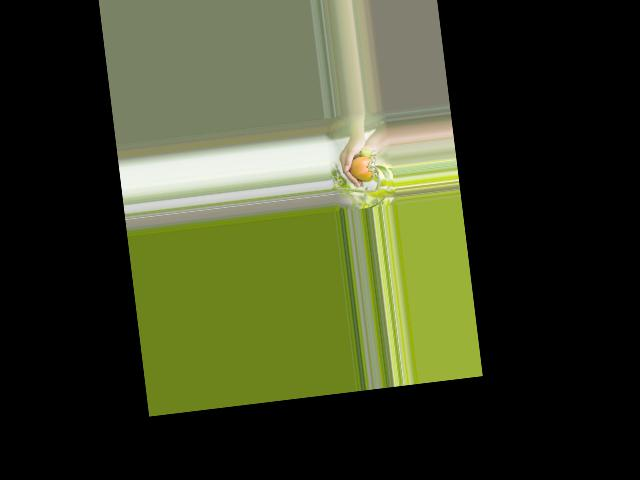tomato: (349, 155, 375, 180)
